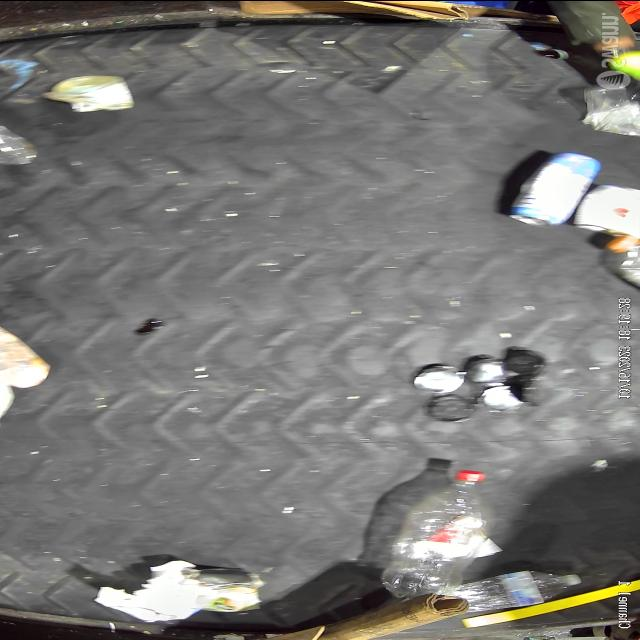can: (506, 148, 600, 224), (41, 72, 135, 114), (571, 183, 640, 234), (194, 565, 264, 612)
plastic_bottle: (381, 468, 485, 594), (460, 568, 584, 612)
